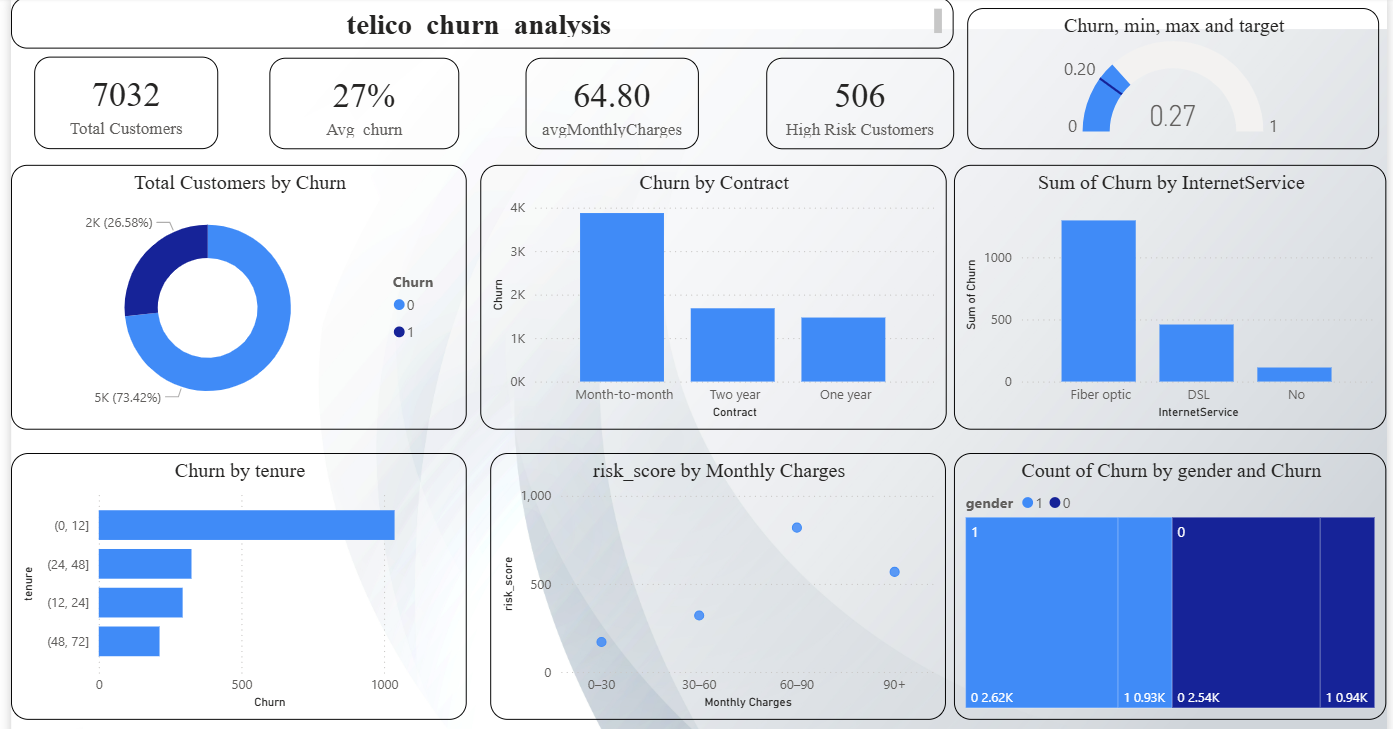

Layout of this report page (visuals, bound fields, positions):
{"tool":"powerbi","page":{"name":"Page 1","canvas":[1280,720],"ordinal":0},"visuals":[{"type":"textbox","box":[0,0,877,48.3],"z":0},{"type":"card","fields":{"Values":["telco_churn_analysis.Total Customers"]},"box":[21.6,55.5,171.5,86.3],"z":1},{"type":"card","fields":{"Values":["Avg(telco_churn_analysis.Churn)"]},"box":[240.3,56.5,176.6,85.2],"z":2},{"type":"card","fields":{"Values":["Avg(telco_churn_analysis.MonthlyCharges)"]},"box":[478.5,56.5,161.2,85.2],"z":3},{"type":"card","fields":{"Values":["telco_churn_analysis.High Risk Customers"]},"box":[702.4,56.5,174.6,85.2],"z":4},{"type":"donutChart","fields":{"Category":["telco_churn_analysis.Churn"],"Y":["telco_churn_analysis.Total Customers"]},"box":[0,156.1,424.1,246.5],"z":5},{"type":"clusteredColumnChart","fields":{"Y":["CountNonNull(telco_churn_analysis.Churn)"],"Category":["telco_churn_analysis.Contract"]},"box":[436.4,156.1,433.4,246.5],"z":6},{"type":"clusteredBarChart","fields":{"Category":["telco_churn_analysis.tenure_group"],"Y":["Sum(telco_churn_analysis.Churn)"]},"box":[0,424.1,424.1,248.5],"z":7},{"type":"scatterChart","fields":{"X":["telco_churn_analysis.Monthly Charges Group"],"Y":["Sum(telco_churn_analysis.risk_score2)"]},"box":[445.7,424.1,424.1,248.5],"z":8},{"type":"treemap","fields":{"Values":["CountNonNull(telco_churn_analysis.Churn)"],"Group":["telco_churn_analysis.gender"],"Details":["telco_churn_analysis.Churn"]},"box":[877,424.1,402.6,248.5],"z":9},{"type":"clusteredColumnChart","fields":{"Category":["telco_churn_analysis.InternetService"],"Y":["Sum(telco_churn_analysis.Churn)"]},"box":[877,156.1,402.6,246.5],"z":10},{"type":"gauge","fields":{"TargetValue":["telco_churn_analysis.target"],"Y":["Avg(telco_churn_analysis.Churn)"],"MinValue":["telco_churn_analysis.min"],"MaxValue":["telco_churn_analysis.max"]},"box":[889,10,383,131],"z":11}]}

Visuals, with their boxes in screenshot pixels (x1, y1, x2, y2):
textbox: [7, 0, 949, 23]
card - telco_churn_analysis.Total Customers: [30, 31, 215, 123]
card - Avg(telco_churn_analysis.Churn): [265, 32, 455, 123]
card - Avg(telco_churn_analysis.MonthlyCharges): [521, 32, 694, 123]
card - telco_churn_analysis.High Risk Customers: [761, 32, 949, 123]
donutChart - telco_churn_analysis.Churn x telco_churn_analysis.Total Customers: [7, 139, 463, 403]
clusteredColumnChart - CountNonNull(telco_churn_analysis.Churn) x telco_churn_analysis.Contract: [476, 139, 941, 403]
clusteredBarChart - telco_churn_analysis.tenure_group x Sum(telco_churn_analysis.Churn): [7, 426, 463, 693]
scatterChart - telco_churn_analysis.Monthly Charges Group x Sum(telco_churn_analysis.risk_score2): [486, 426, 941, 693]
treemap - CountNonNull(telco_churn_analysis.Churn) x telco_churn_analysis.gender: [949, 426, 1381, 693]
clusteredColumnChart - telco_churn_analysis.InternetService x Sum(telco_churn_analysis.Churn): [949, 139, 1381, 403]
gauge - telco_churn_analysis.target x Avg(telco_churn_analysis.Churn): [962, 0, 1373, 122]
